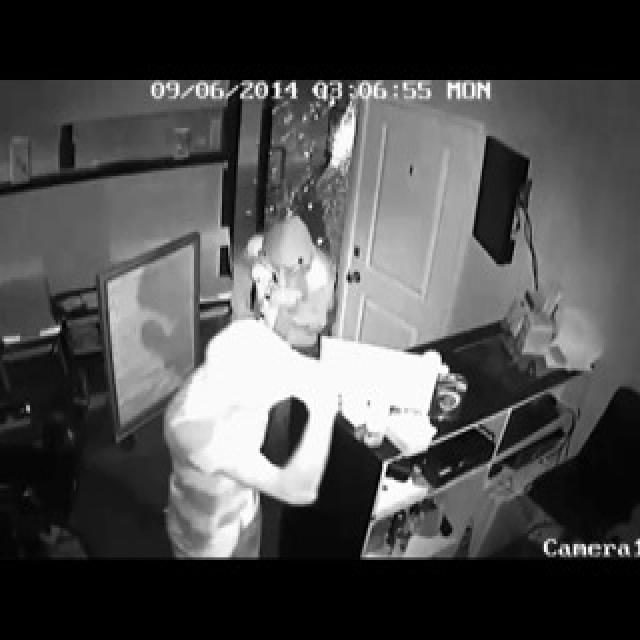thief: (162, 322, 334, 556), (245, 215, 342, 344)
